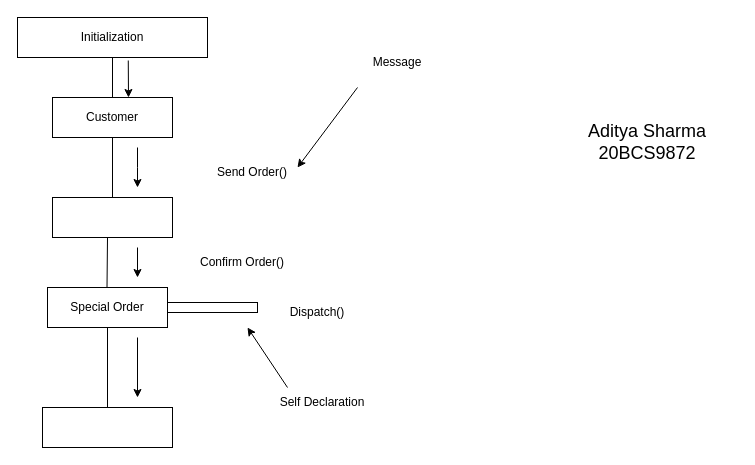
This 755x465 diagram has some shape labels left out. The shapes that lost their labels are listed below. From the top down, each one's box as (x1, y1, x2, y2) in pixels, then its label:
(52, 196, 172, 238): Order
(42, 406, 172, 448): End Of Processes
